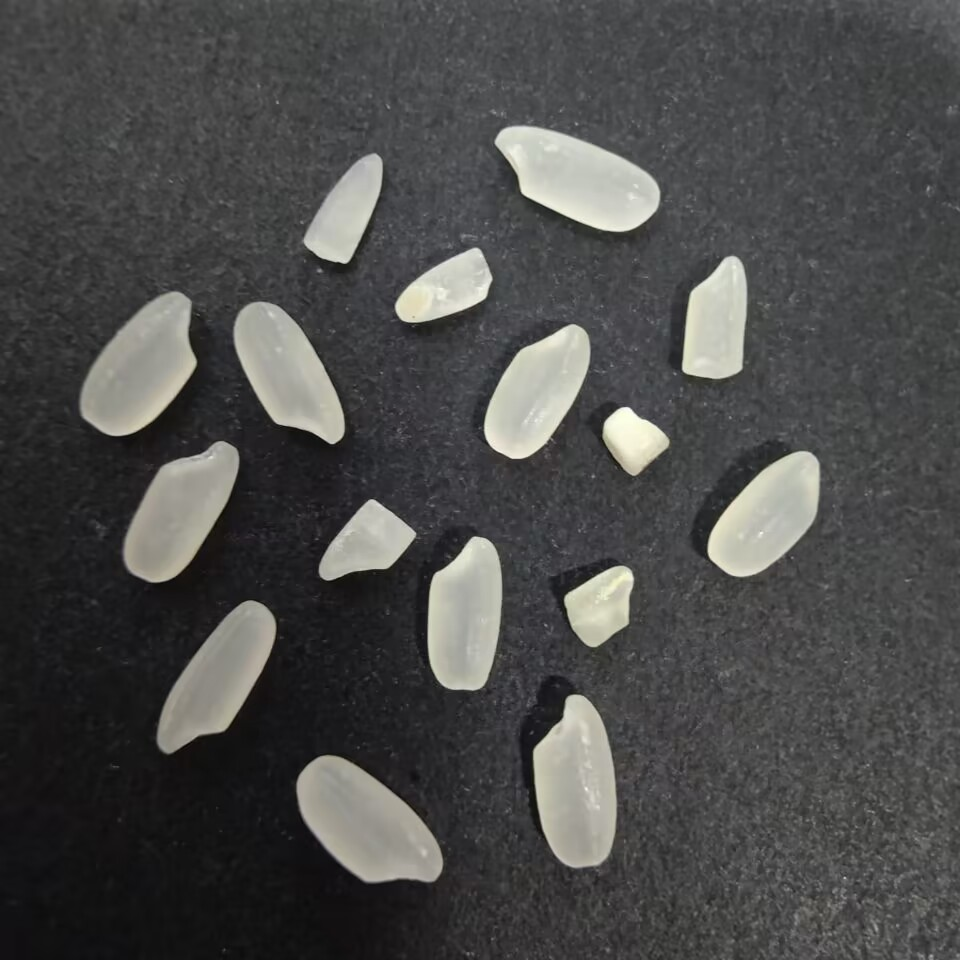broken: (295, 150, 388, 270), (311, 492, 420, 589), (675, 249, 751, 381), (392, 244, 496, 328), (560, 558, 639, 649), (599, 403, 673, 484)
rice: (290, 753, 453, 893), (151, 595, 279, 759), (492, 119, 668, 237), (76, 285, 209, 441), (119, 436, 241, 584), (231, 300, 351, 448), (703, 441, 826, 579), (529, 685, 620, 869), (481, 315, 595, 461), (420, 531, 505, 696)
